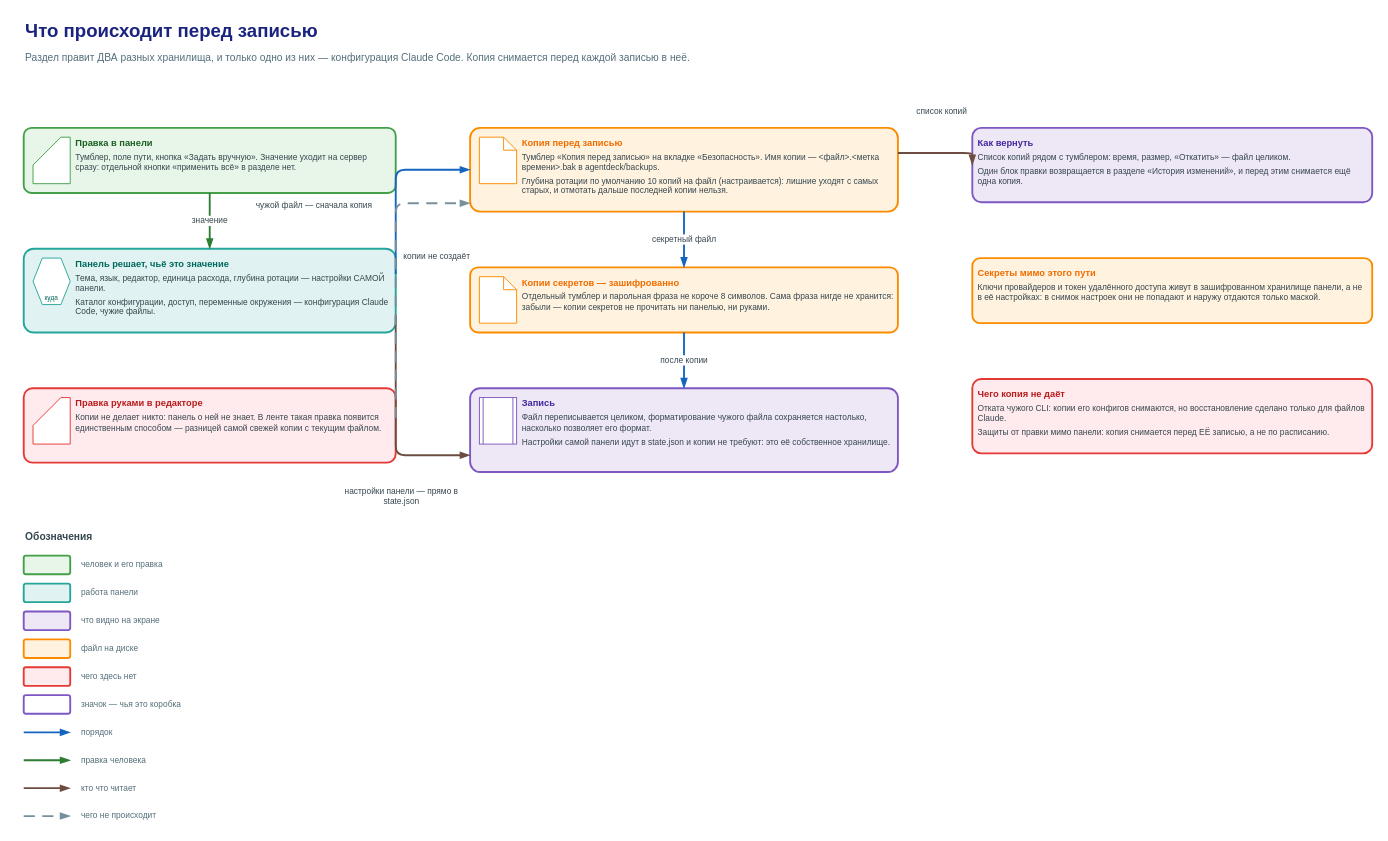
Image size: 1388x841. Some labels were removed from this diagram. Each missing label, with the box of its shape:
bak: (478, 136, 517, 184)
enc: (478, 276, 517, 323)
write: (478, 397, 517, 444)
вы: (32, 136, 70, 184)
мимо: (32, 397, 70, 444)
